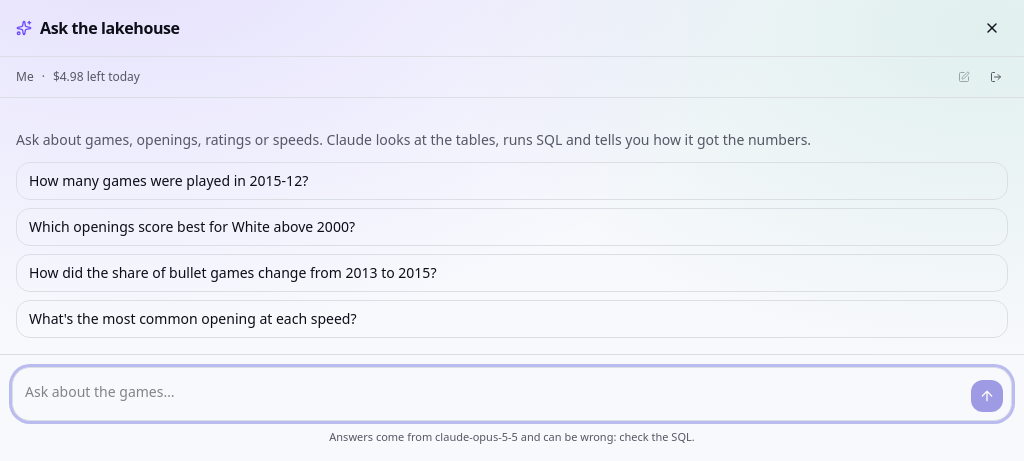
Test: chat panel › shows the backend's reason when it refuses a question
This screenshot has width=1024, height=461.
Type "Hi" into the text box named "Your question" at (492, 394), box [21, 376, 963, 412]
Then press Enter
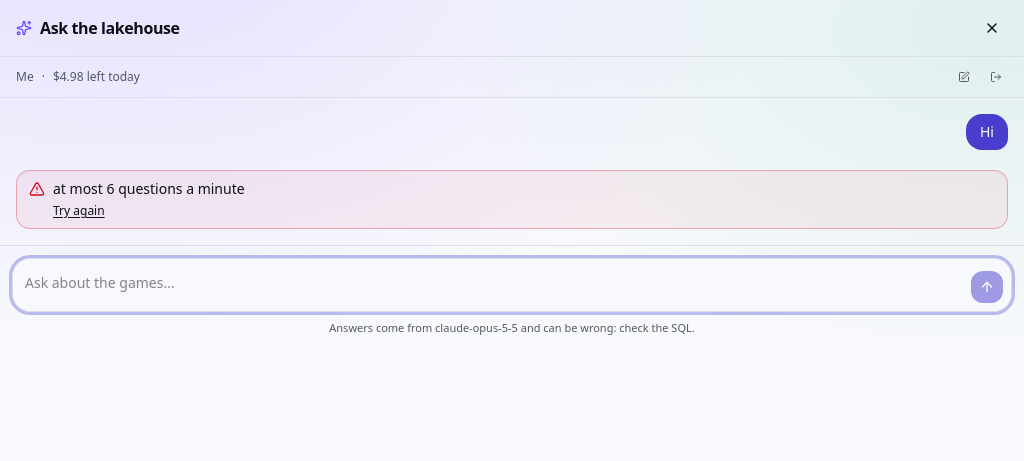
Expected: the message shows "at most 6 questions a minute", [53, 179, 245, 198]
